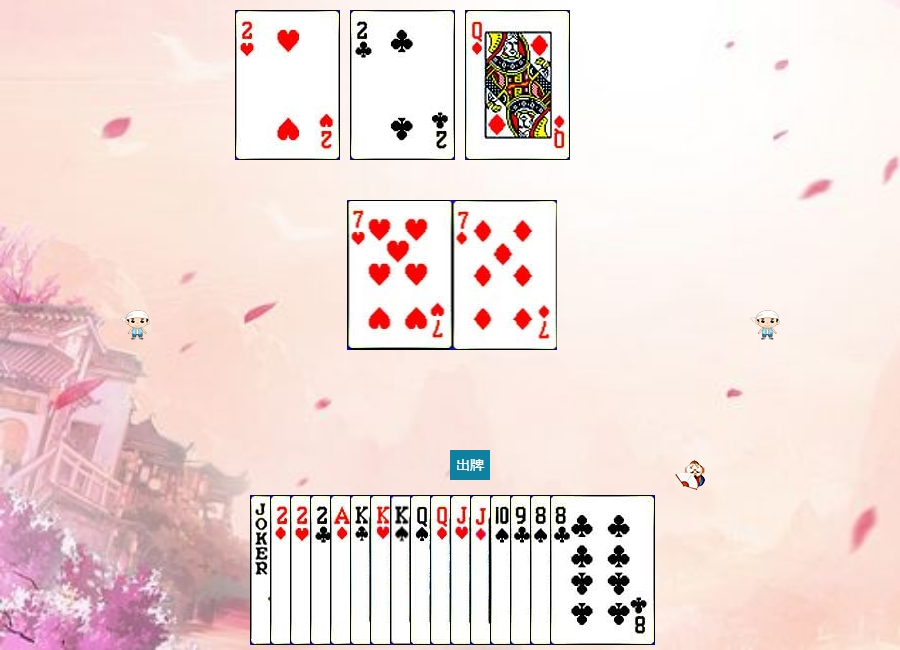10~4: (490, 495, 595, 645)
11~1: (470, 495, 575, 645)
11~3: (450, 495, 555, 645)
12~1: (465, 10, 570, 160), (430, 495, 535, 645)
12~4: (410, 495, 515, 645)
13~2: (350, 495, 455, 645)
13~3: (370, 495, 475, 645)
13~4: (390, 495, 495, 645)
14~1: (330, 495, 435, 645)
15~1: (270, 495, 375, 645)
15~2: (350, 10, 455, 160), (310, 495, 415, 645)
15~3: (235, 10, 340, 160), (290, 495, 395, 645)
17~3: (250, 495, 355, 645)
7~1: (453, 200, 558, 350)
7~3: (348, 200, 453, 350)
8~2: (550, 495, 655, 645)
8~4: (530, 495, 635, 645)
9~2: (510, 495, 615, 645)
